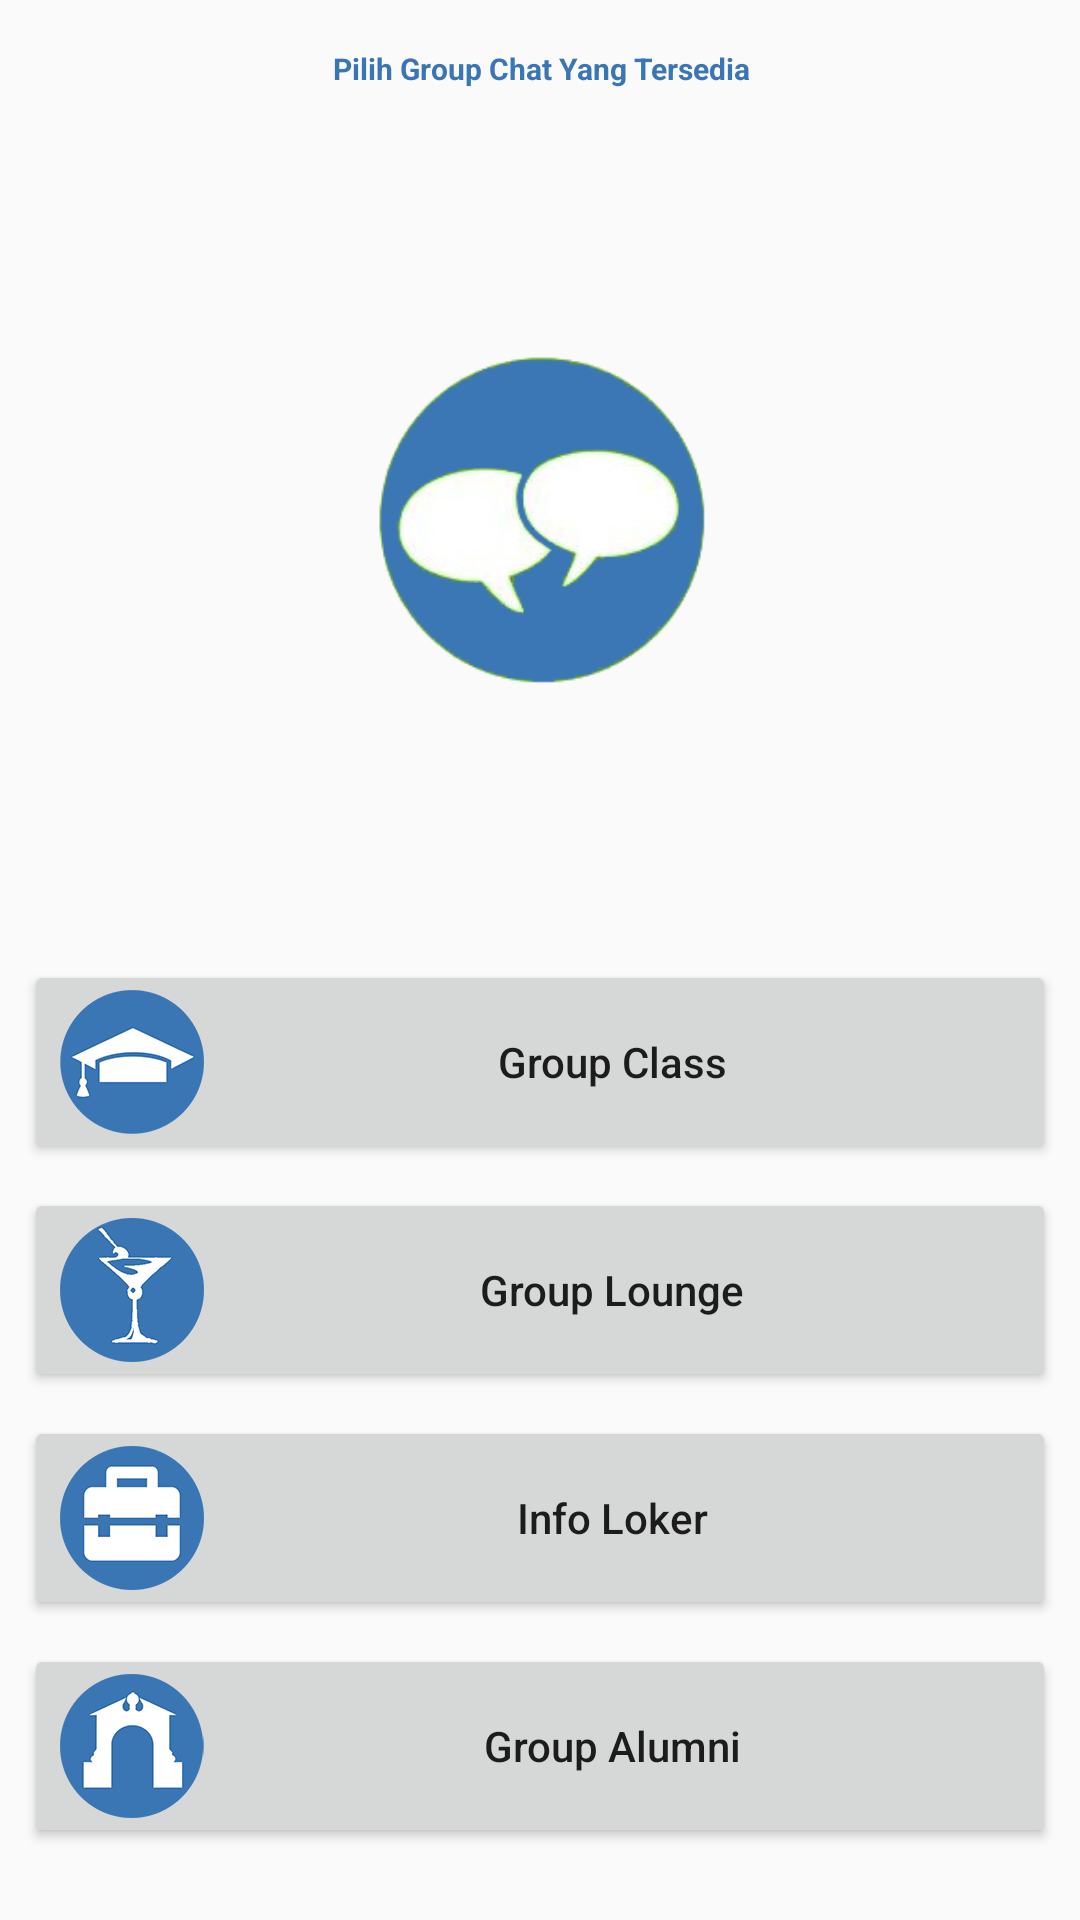

Named icons in this screenshot (1080 x 1920) and their centers, (x=x, y=y):
bubble: (x=542, y=520)
